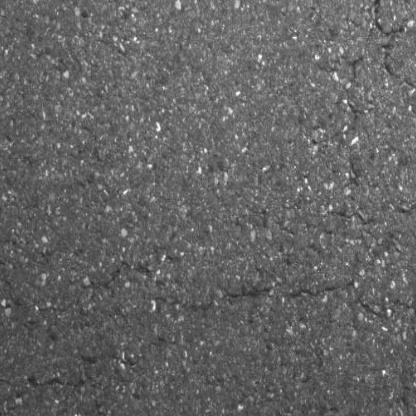Cracks: (214, 266, 384, 321), (370, 0, 416, 93), (341, 53, 369, 126)
